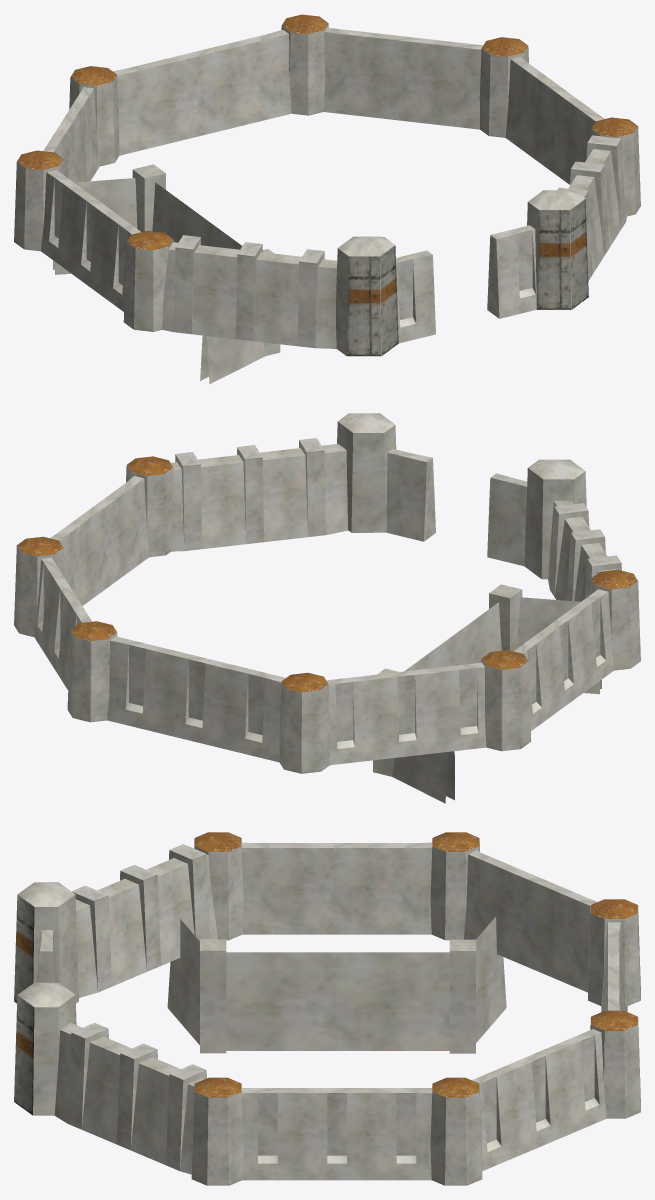
Rendered from poi_all_rebl_corral_32x32_s01_l1.fbx.
The picture shows the model from 3 angles, top to bottom: view 1: azimuth 30°, elevation 25°; view 2: azimuth 150°, elevation 25°; view 3: azimuth 270°, elevation 25°; orthographic projection. The views are drawn at different scales.
Visible parts, largest first — view 1: mesh_node; view 2: mesh_node; view 3: mesh_node.
Boxes of the visible parts, bbox=[...] form: mesh_node: bbox=[14, 14, 640, 384]; mesh_node: bbox=[14, 413, 640, 803]; mesh_node: bbox=[14, 832, 640, 1185].
Size of the model in its own units: 24.01 by 7.4 by 23.73.
1 material, 1 textured.
